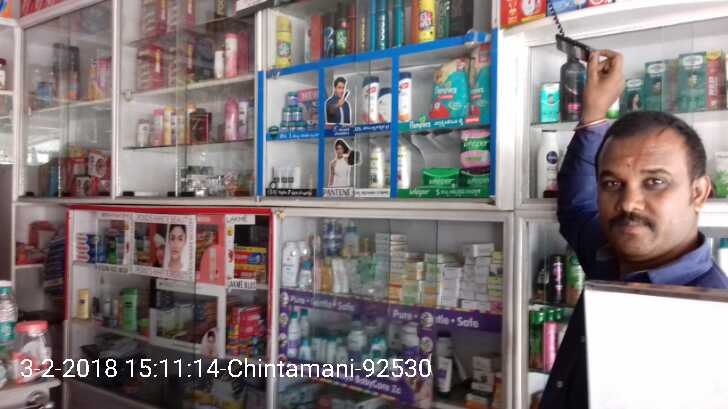beauty: (394, 144, 412, 192), (362, 74, 378, 124), (398, 68, 412, 123), (369, 140, 385, 188), (376, 87, 391, 125), (287, 164, 298, 189), (271, 164, 281, 187), (280, 165, 287, 191)
pharmacy: (426, 58, 468, 118), (467, 43, 494, 119), (461, 131, 491, 165), (421, 167, 458, 189), (458, 164, 488, 188), (291, 105, 302, 123), (286, 91, 297, 106), (282, 105, 290, 120)
